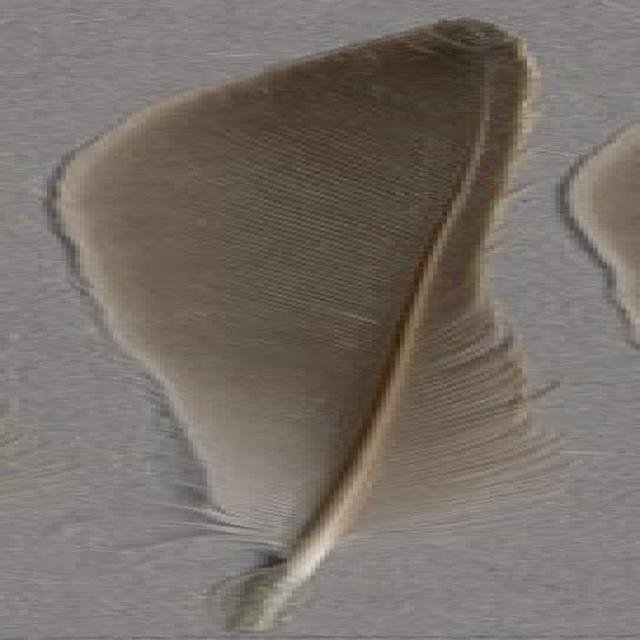feather: (31, 16, 640, 634)
